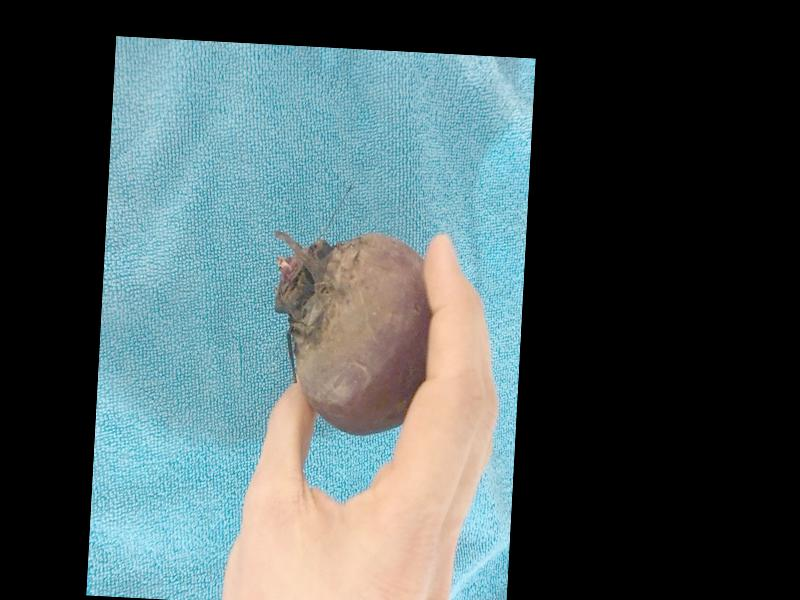Beet: (265, 229, 434, 436)
